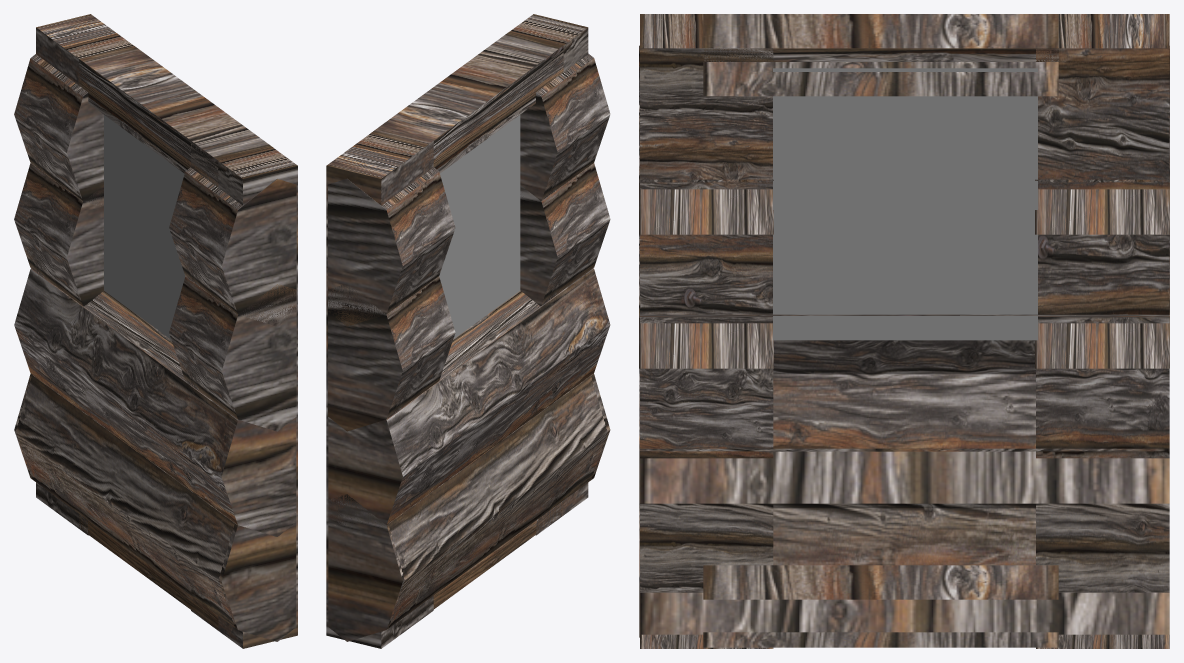
The model's file is Wall_Window_001.fbx.
3 views of the same model, side by side, from view 1: azimuth 30°, elevation 25°; view 2: azimuth 150°, elevation 25°; view 3: azimuth 270°, elevation 25° (orthographic). The views are drawn at different scales.
Parts seen in each view (by area): view 1: Wall_Window_001; view 2: Wall_Window_001; view 3: Wall_Window_001.
Boxes of the visible parts, left/top/right/bottom form: Wall_Window_001: left=14, top=14, right=297, bottom=648; Wall_Window_001: left=326, top=14, right=610, bottom=648; Wall_Window_001: left=639, top=14, right=1169, bottom=648.
Bounding box in the file's own units: 42.61 × 251 × 200.
